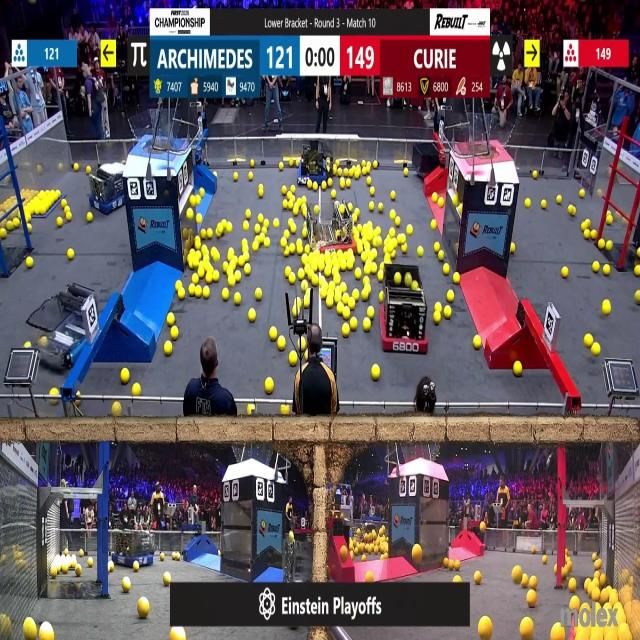ball_airborne: (480, 618, 493, 640), (26, 620, 38, 640)
ball_ground: (521, 619, 534, 640), (40, 624, 53, 640), (139, 598, 149, 618), (553, 626, 565, 640), (413, 544, 422, 562), (266, 378, 275, 394), (527, 591, 536, 607), (515, 360, 523, 376), (514, 566, 522, 582), (602, 302, 611, 316), (112, 404, 121, 418), (120, 367, 128, 382), (165, 342, 173, 357), (122, 579, 130, 593), (444, 306, 452, 320), (298, 338, 306, 352), (171, 628, 180, 640), (371, 364, 378, 379), (171, 326, 179, 339), (473, 570, 481, 583), (278, 338, 286, 351), (289, 352, 297, 365), (270, 326, 278, 339), (568, 580, 576, 593), (281, 407, 290, 418), (363, 318, 370, 332), (350, 318, 357, 332), (248, 310, 256, 322), (472, 338, 480, 350), (592, 344, 600, 356), (586, 336, 594, 348), (133, 384, 141, 396), (570, 597, 578, 609), (529, 575, 537, 587), (433, 312, 441, 324), (592, 589, 600, 601), (168, 313, 175, 326), (343, 323, 350, 336), (394, 273, 401, 286), (522, 574, 529, 587), (602, 266, 610, 277), (364, 570, 372, 581), (27, 256, 34, 268), (165, 572, 172, 584), (254, 288, 261, 300), (178, 288, 185, 300), (361, 288, 368, 300), (366, 307, 373, 319), (453, 273, 460, 285), (304, 296, 311, 308), (186, 208, 193, 220), (211, 248, 218, 260), (344, 308, 351, 320), (434, 303, 442, 313), (212, 272, 220, 282), (375, 238, 383, 248), (604, 241, 612, 251), (198, 270, 206, 280), (6, 220, 14, 230), (324, 268, 332, 278), (68, 249, 75, 260), (562, 268, 569, 279), (244, 266, 251, 277), (355, 269, 362, 280), (297, 270, 304, 281), (227, 276, 234, 287), (295, 244, 302, 255), (206, 273, 213, 284), (363, 266, 370, 277), (284, 268, 291, 279), (363, 242, 370, 253), (204, 286, 210, 298), (448, 290, 454, 302), (194, 238, 200, 250), (236, 272, 242, 284), (326, 296, 332, 308), (341, 544, 347, 556), (579, 221, 587, 230), (194, 286, 201, 296), (243, 220, 250, 230), (444, 266, 451, 276), (568, 206, 575, 216), (369, 248, 376, 258), (191, 274, 198, 284), (539, 200, 546, 210), (337, 306, 344, 316), (288, 276, 295, 286), (398, 235, 405, 245), (312, 276, 319, 286), (353, 289, 360, 299), (188, 285, 195, 295), (192, 196, 199, 206), (594, 263, 600, 274), (236, 293, 242, 304), (222, 289, 228, 300), (0, 229, 6, 240), (76, 565, 82, 576), (340, 181, 346, 192), (227, 248, 233, 259), (370, 265, 376, 276), (511, 243, 517, 254), (348, 261, 354, 272), (605, 213, 611, 224), (449, 559, 455, 570), (362, 276, 369, 285), (349, 302, 356, 311), (336, 293, 343, 302), (342, 294, 349, 303), (52, 385, 59, 394), (341, 265, 348, 274), (302, 208, 309, 217), (226, 222, 232, 232), (265, 238, 271, 248), (378, 272, 384, 282), (408, 224, 414, 234), (58, 217, 64, 227), (274, 218, 280, 228), (635, 290, 640, 302), (303, 230, 309, 240), (239, 254, 245, 264), (454, 560, 460, 570), (108, 562, 114, 572), (222, 264, 228, 274), (591, 230, 597, 240), (207, 230, 213, 240), (326, 178, 332, 188), (598, 240, 604, 250), (320, 289, 326, 299), (439, 251, 445, 261), (355, 170, 361, 180), (562, 567, 568, 577), (357, 244, 363, 254), (290, 244, 296, 254), (186, 254, 192, 264), (600, 574, 606, 584), (453, 198, 459, 208), (303, 254, 309, 264), (26, 213, 32, 223), (13, 218, 19, 228), (312, 264, 318, 274), (318, 264, 324, 274), (586, 218, 592, 228), (524, 200, 531, 208), (453, 575, 461, 582), (364, 221, 372, 228), (635, 267, 640, 278), (247, 407, 252, 418), (418, 247, 424, 256), (88, 213, 94, 222), (281, 239, 287, 248), (585, 231, 591, 240), (360, 253, 366, 262), (314, 206, 320, 215), (390, 190, 396, 199), (66, 212, 72, 221), (252, 243, 258, 252), (376, 226, 382, 235), (40, 338, 46, 347), (557, 197, 563, 206), (368, 186, 374, 195), (242, 240, 248, 249), (431, 192, 437, 201), (335, 276, 341, 285), (595, 560, 601, 569), (303, 281, 309, 290), (295, 296, 301, 305), (216, 229, 222, 238), (346, 179, 352, 188), (308, 180, 314, 189), (348, 203, 354, 212), (392, 240, 398, 249), (362, 167, 368, 176), (342, 283, 348, 292), (204, 252, 210, 261), (331, 168, 337, 177), (395, 216, 400, 226), (380, 291, 385, 301), (445, 558, 450, 568), (283, 200, 288, 210), (434, 242, 439, 252), (243, 209, 248, 219), (28, 222, 33, 232), (134, 562, 139, 572), (292, 307, 297, 317), (202, 230, 207, 240), (387, 226, 392, 236), (202, 246, 209, 253), (328, 281, 335, 288), (430, 220, 436, 228), (254, 224, 260, 232), (194, 214, 200, 222), (284, 232, 290, 240), (439, 200, 445, 208), (532, 171, 538, 179), (354, 208, 360, 216), (84, 165, 90, 173), (304, 352, 310, 360), (292, 208, 298, 216), (541, 556, 547, 564), (387, 211, 393, 219), (594, 570, 600, 578), (338, 169, 344, 177), (294, 198, 300, 206), (401, 245, 406, 254), (368, 203, 373, 212), (330, 189, 335, 198), (176, 280, 181, 289), (385, 253, 390, 262), (379, 204, 384, 213), (391, 250, 396, 259), (290, 225, 296, 232), (384, 246, 390, 253), (288, 218, 294, 225), (258, 235, 264, 242), (381, 554, 387, 561), (579, 189, 584, 197), (284, 249, 289, 257), (90, 559, 95, 567), (248, 172, 253, 180), (282, 186, 287, 194), (258, 188, 263, 196), (234, 173, 239, 181), (380, 264, 385, 272), (313, 182, 318, 190), (257, 214, 262, 222), (265, 219, 270, 227), (279, 164, 284, 172), (361, 555, 366, 563), (344, 169, 349, 177), (289, 161, 294, 169), (63, 200, 68, 208), (287, 192, 292, 200), (322, 181, 326, 190), (306, 245, 310, 254), (290, 185, 295, 192), (200, 188, 205, 195), (74, 165, 79, 172), (372, 160, 377, 167), (56, 189, 61, 196), (403, 169, 407, 177), (162, 554, 166, 562), (366, 177, 370, 185), (176, 553, 180, 561), (636, 248, 640, 256), (26, 342, 30, 349), (250, 161, 254, 168), (79, 551, 83, 558), (592, 554, 596, 561), (532, 546, 536, 552), (555, 566, 558, 574), (218, 552, 221, 557)
goal: (460, 118, 518, 158), (129, 115, 186, 152)
robot_blue: (31, 287, 91, 373), (88, 166, 126, 213), (110, 528, 155, 566), (299, 139, 334, 184)
robot_red: (380, 282, 430, 353), (316, 208, 355, 253)
